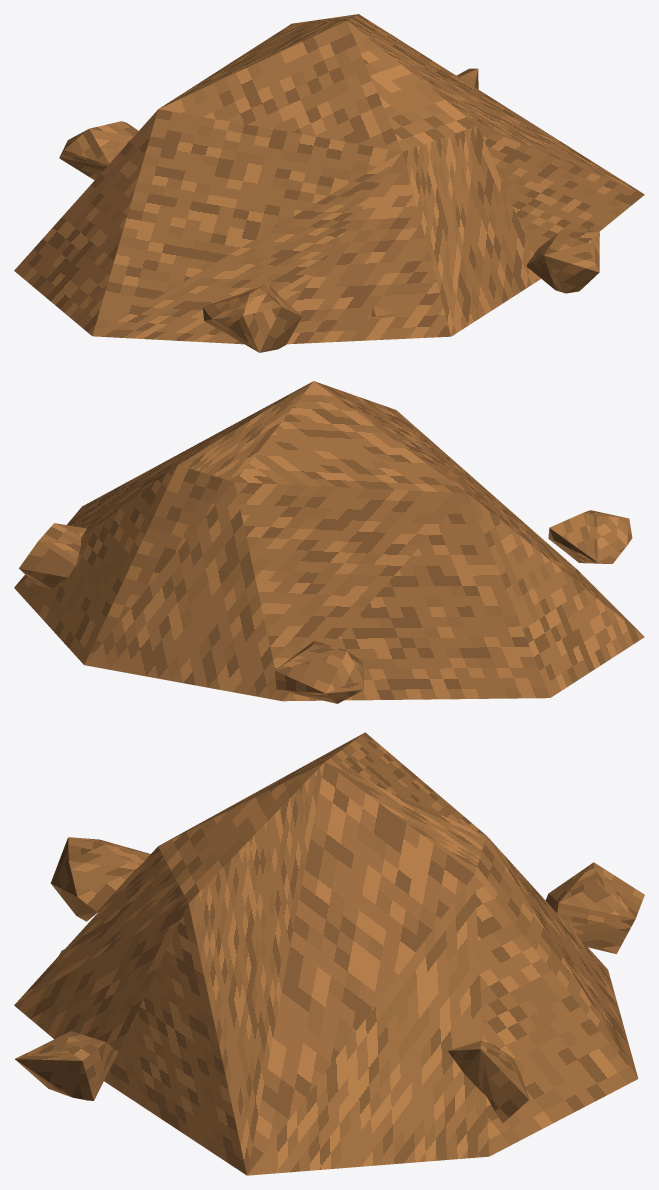
The model's file is f_leaves_pile.glb.
3 renders of one model, top to bottom at view 1: azimuth 30°, elevation 25°; view 2: azimuth 150°, elevation 25°; view 3: azimuth 270°, elevation 25°, orthographic. The views are drawn at different scales.
Parts seen in each view (by area): view 1: block_mound, block_debris-1, block_debris-3, block_debris-7; view 2: block_mound, block_debris-7, block_debris-1, block_debris-5; view 3: block_mound, block_debris-7, block_debris-1, block_debris-3, block_debris-5.
Part boxes in pixels (x1,y1,x2,y2): block_mound: (14,14,644,344); block_debris-1: (203,284,301,352); block_debris-3: (526,232,599,293); block_debris-7: (59,121,138,180); block_mound: (14,381,644,701); block_debris-7: (275,640,363,703); block_debris-1: (548,510,632,563); block_debris-5: (19,523,86,588); block_mound: (14,732,638,1175); block_debris-7: (545,862,644,953); block_debris-1: (50,837,150,921); block_debris-3: (15,1031,117,1100); block_debris-5: (448,1040,529,1123).
Bounding box in the file's own units: 0.9266 × 0.34 × 0.754.
Materials: 1 (1 with a texture image).
